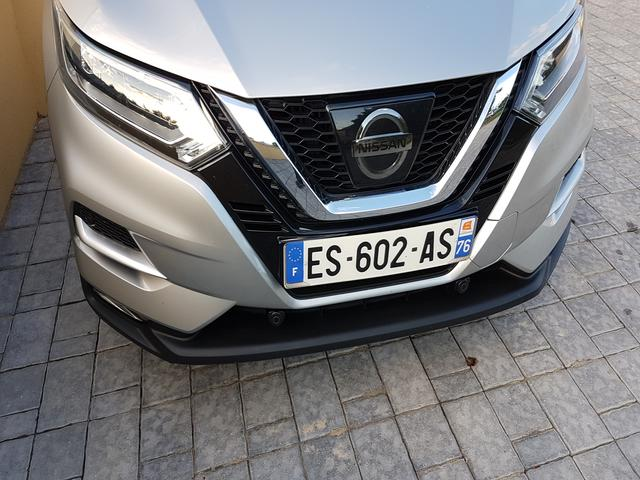Quashquai: (264, 189, 488, 296)
